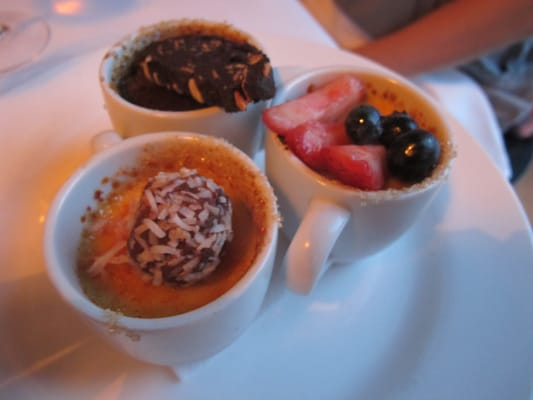sushi: (41, 131, 282, 368), (261, 69, 458, 220), (98, 18, 277, 149)
